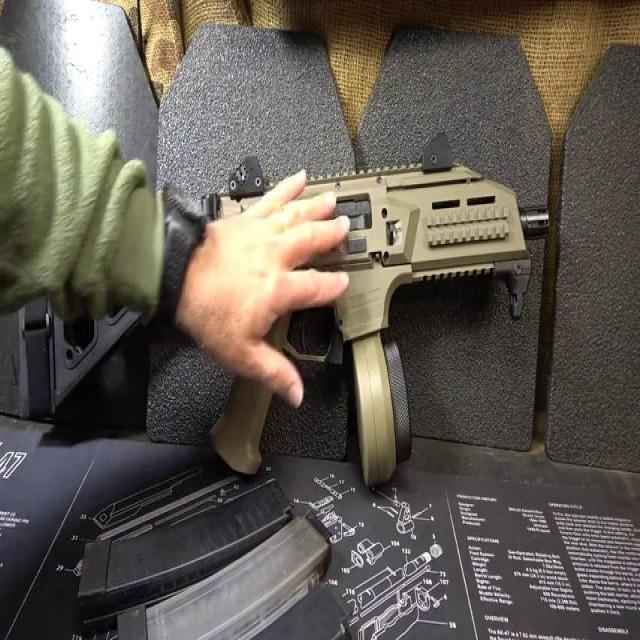Rifle: (173, 138, 548, 512)
